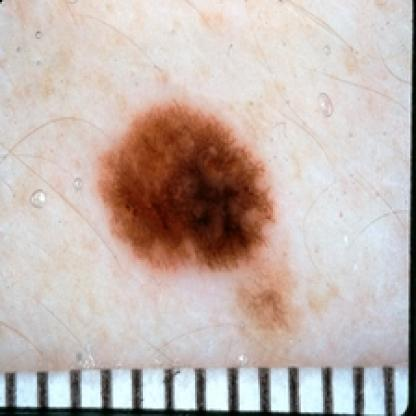Skin_Cancer-Malignant: (98, 98, 277, 275)
